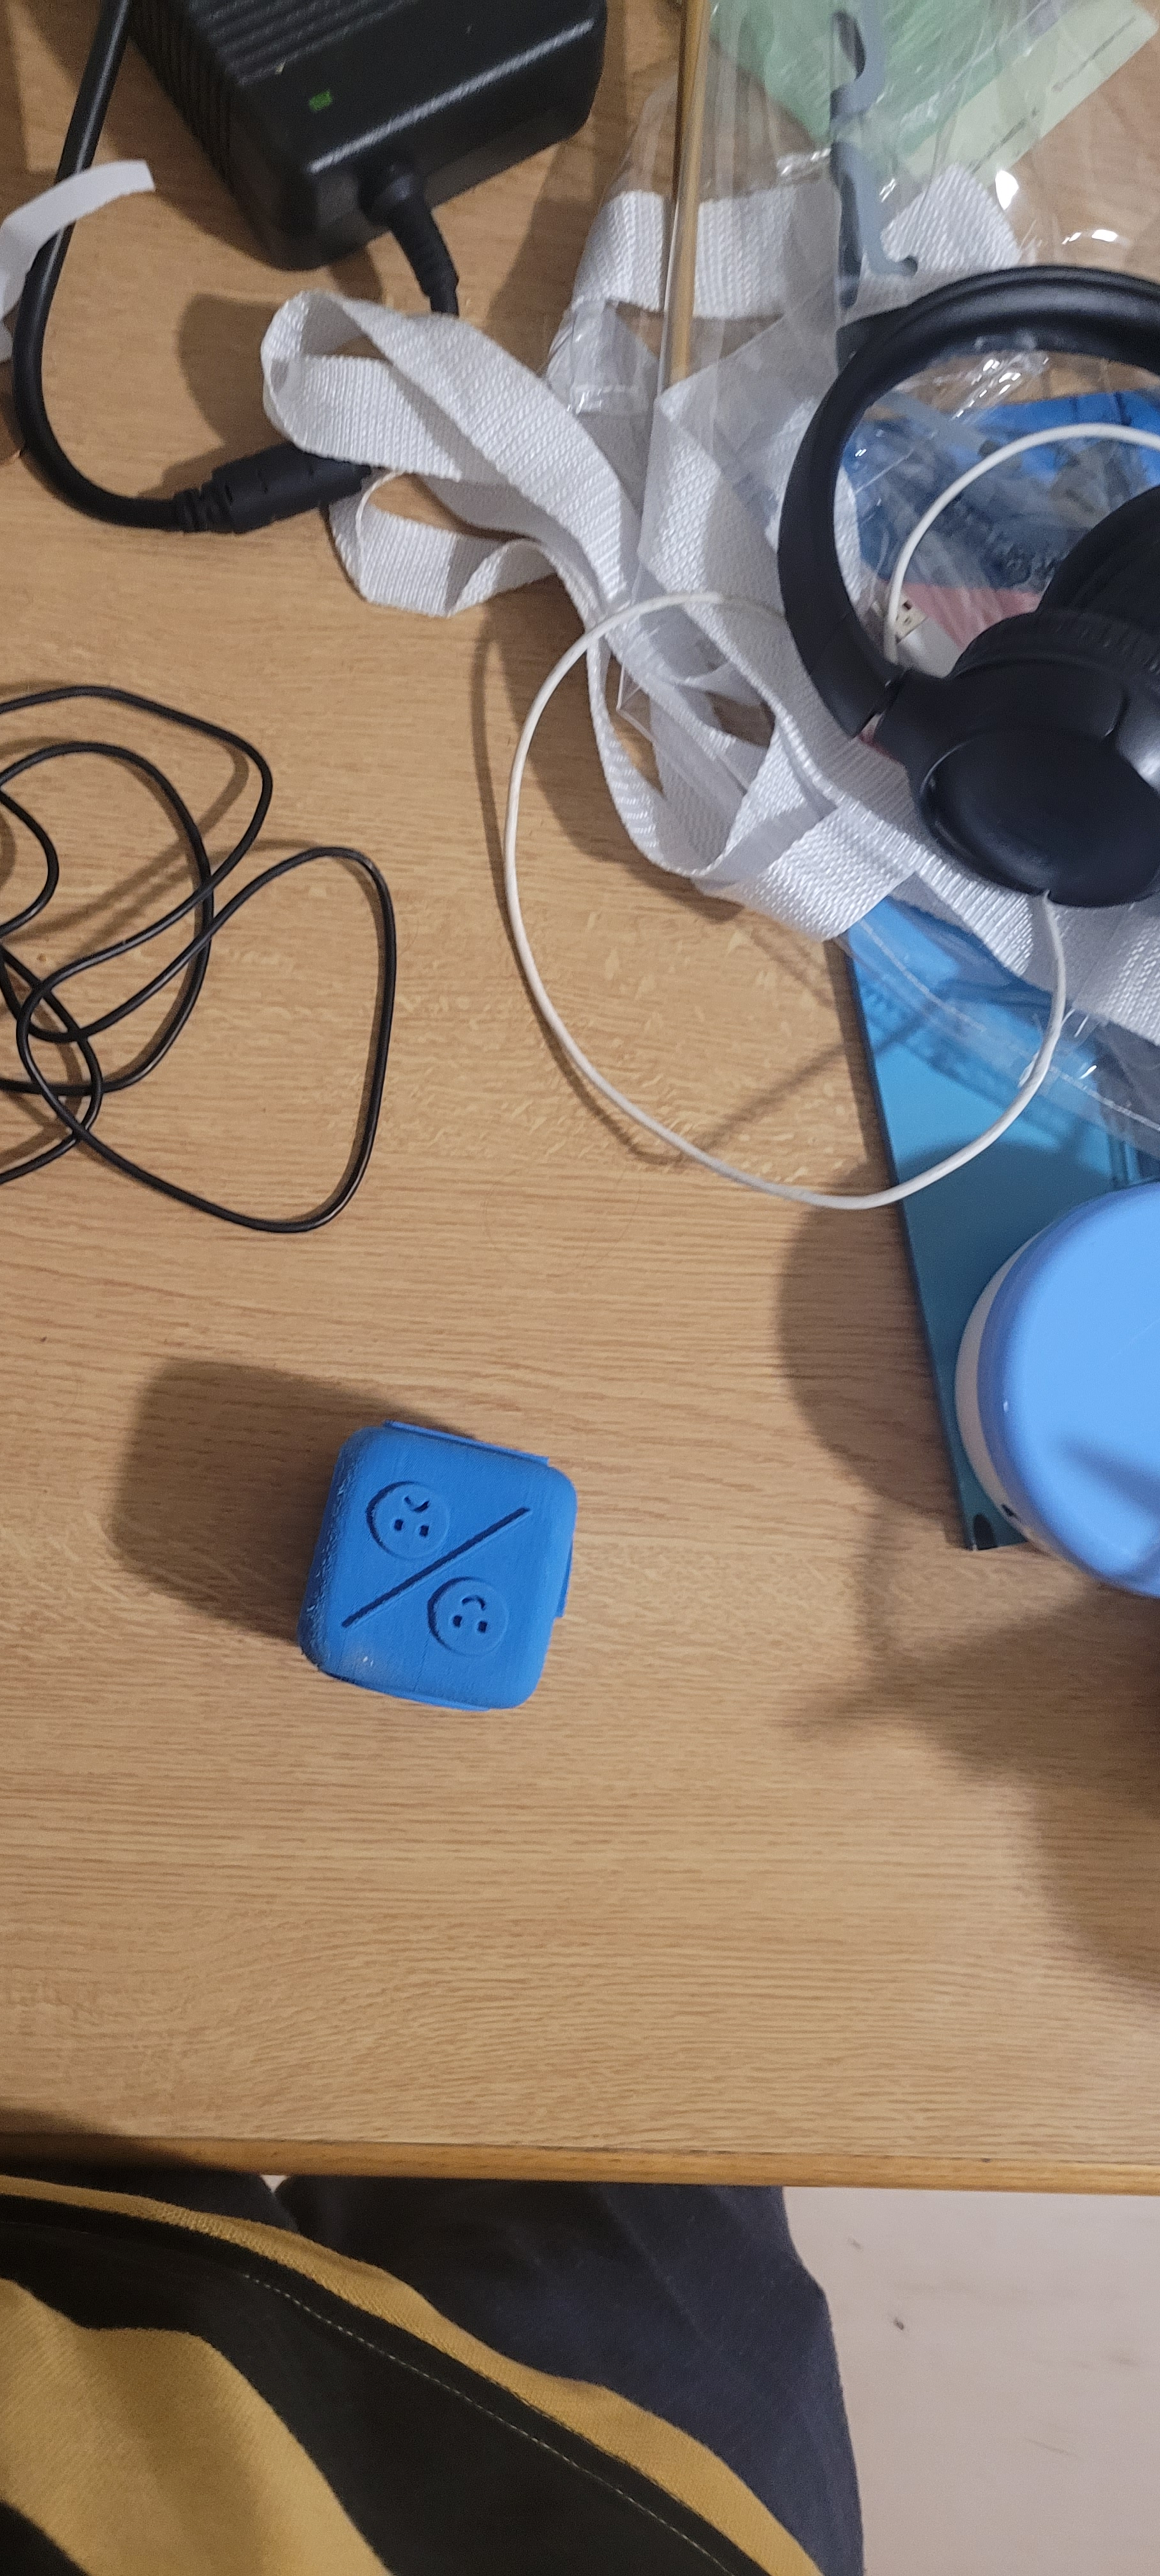Like/Dislike: (304, 1441, 611, 1669)
